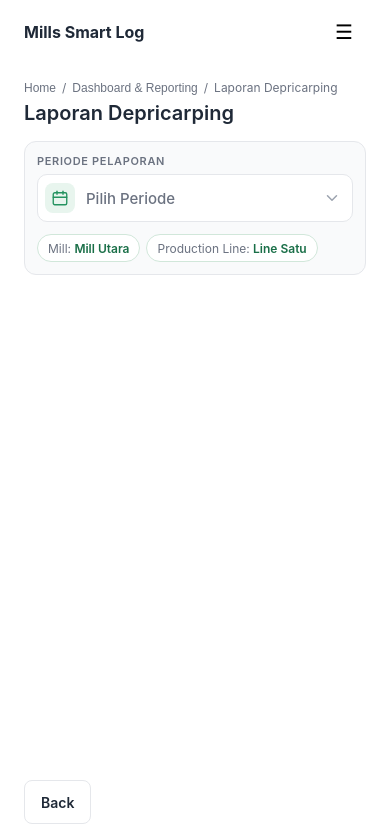
Test: kartu parameter › kartu tanpa satu pun pembacaan TETAP dirender, dengan standarnya tetap tampil
Select "Depricarping — Periode September 2026" in the dropdown with test id "period-select" at (195, 198), box [37, 174, 353, 222]
(page scrolled)
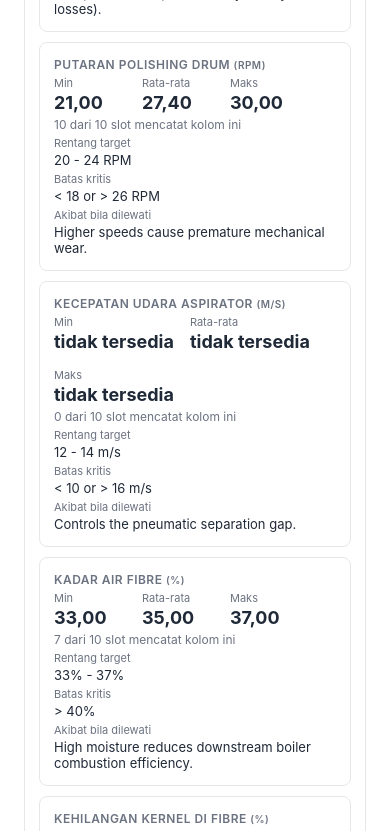
Result: the element with test id "metric-card" shows "Kecepatan Udara Aspirator" at [54, 296, 256, 311]
Result: the element with test id "metric-card" shows "tidak tersedia" at [54, 331, 174, 352]
Result: the element with test id "metric-card" shows "12 - 14 m/s" at [54, 444, 121, 460]
